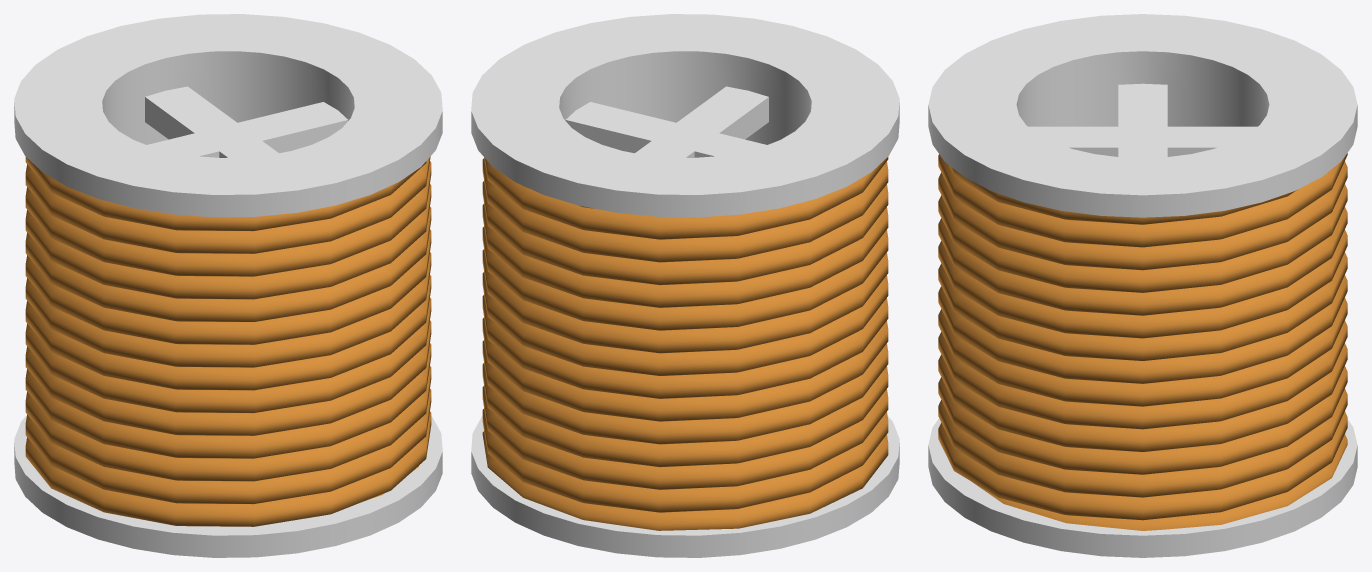
File: WireSpool.fbx
3 views of the same model, side by side, from view 1: azimuth 30°, elevation 25°; view 2: azimuth 150°, elevation 25°; view 3: azimuth 270°, elevation 25° (orthographic).
Parts seen in each view (by area): view 1: WireSpool; view 2: WireSpool; view 3: WireSpool.
Part boxes in pixels (x1,y1,x2,y2): WireSpool: (14,14,442,557); WireSpool: (471,14,899,557); WireSpool: (928,14,1357,557).
Size of the model in its own units: 64.33 by 59.98 by 64.33.
